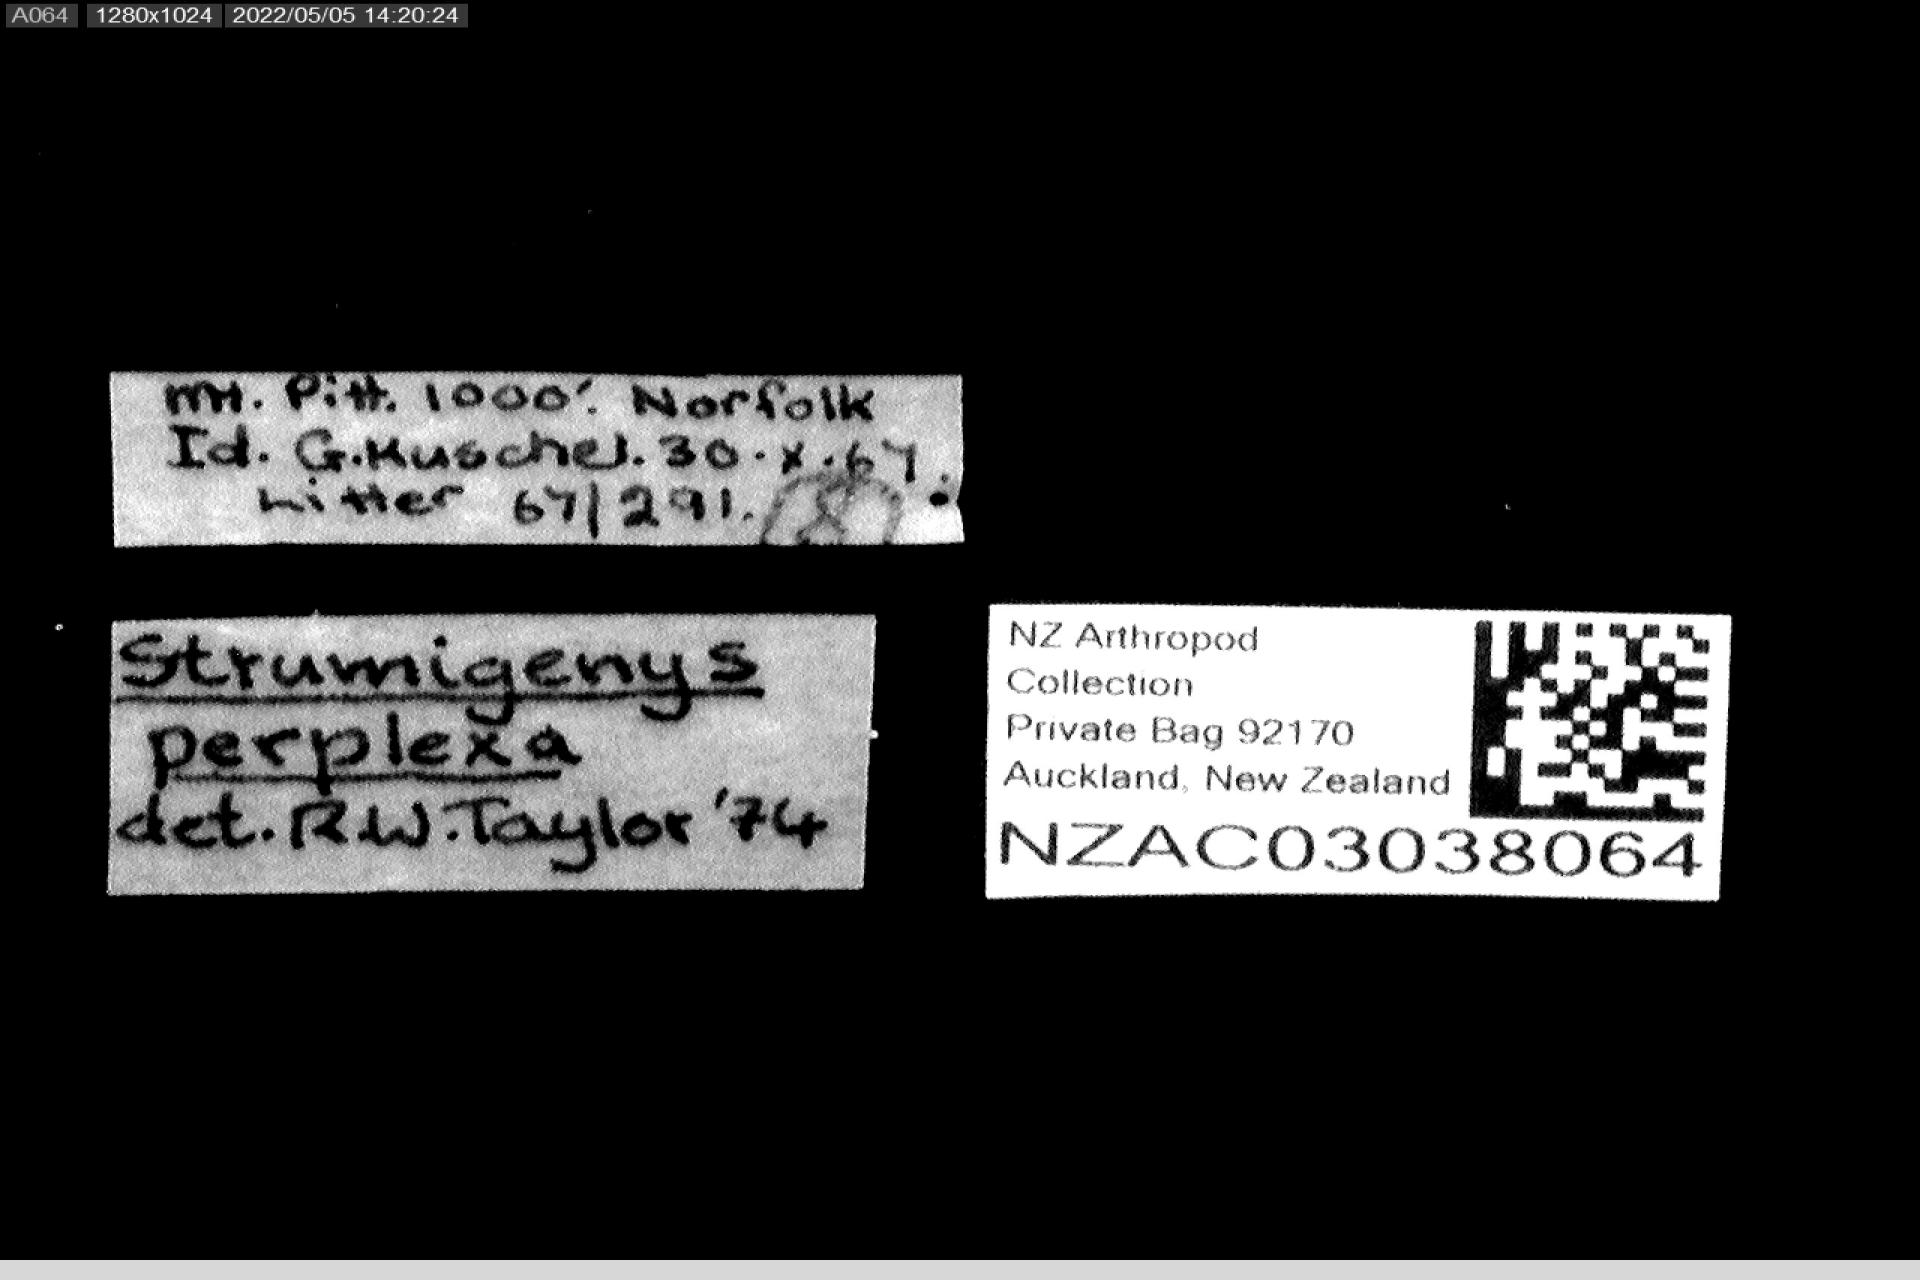hand_label: (109, 616, 874, 894), (109, 371, 964, 547)
typed_label: (986, 606, 1729, 900)
